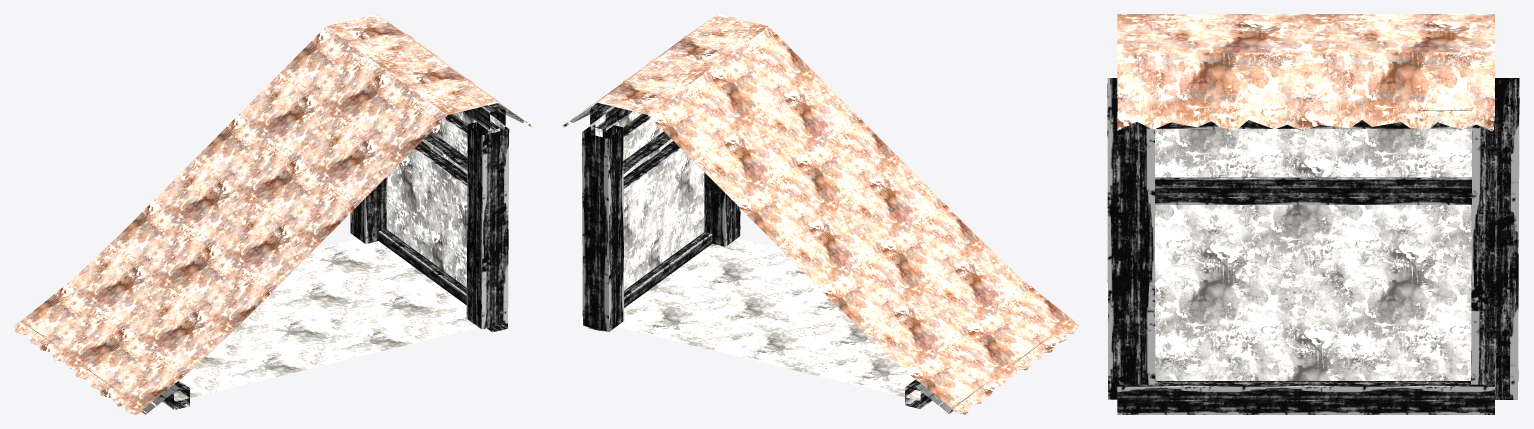
Rendered from SM_roof_A_part_5_02_01.fbx.
3 views of the same model, side by side, from view 1: azimuth 30°, elevation 25°; view 2: azimuth 150°, elevation 25°; view 3: azimuth 270°, elevation 25° (orthographic). The views are drawn at different scales.
Visible parts, largest first — view 1: SM_roof_A_part_5_02_01_LOD0; view 2: SM_roof_A_part_5_02_01_LOD0; view 3: SM_roof_A_part_5_02_01_LOD0.
Part boxes in pixels (left/top/right/bottom): SM_roof_A_part_5_02_01_LOD0: left=14, top=14, right=533, bottom=414; SM_roof_A_part_5_02_01_LOD0: left=562, top=14, right=1078, bottom=414; SM_roof_A_part_5_02_01_LOD0: left=1107, top=14, right=1519, bottom=414.
Bounding box in the file's own units: 765 × 437 × 421.
Materials: 5 (5 with a texture image).
